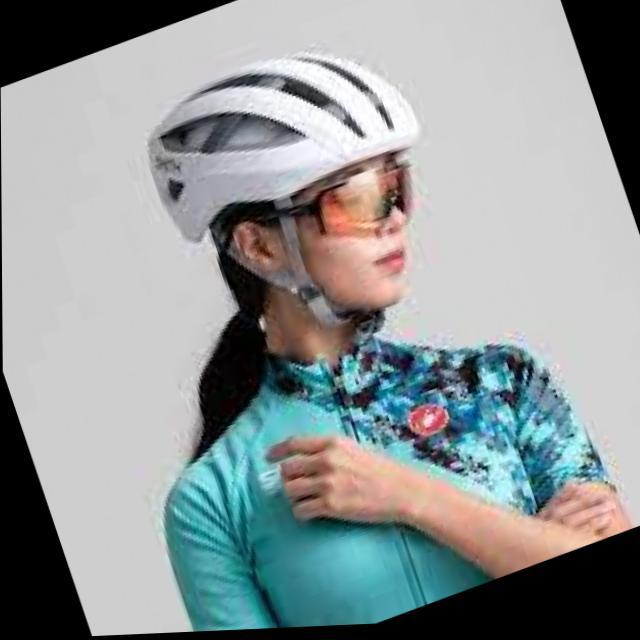Helmet: (134, 50, 423, 331)
